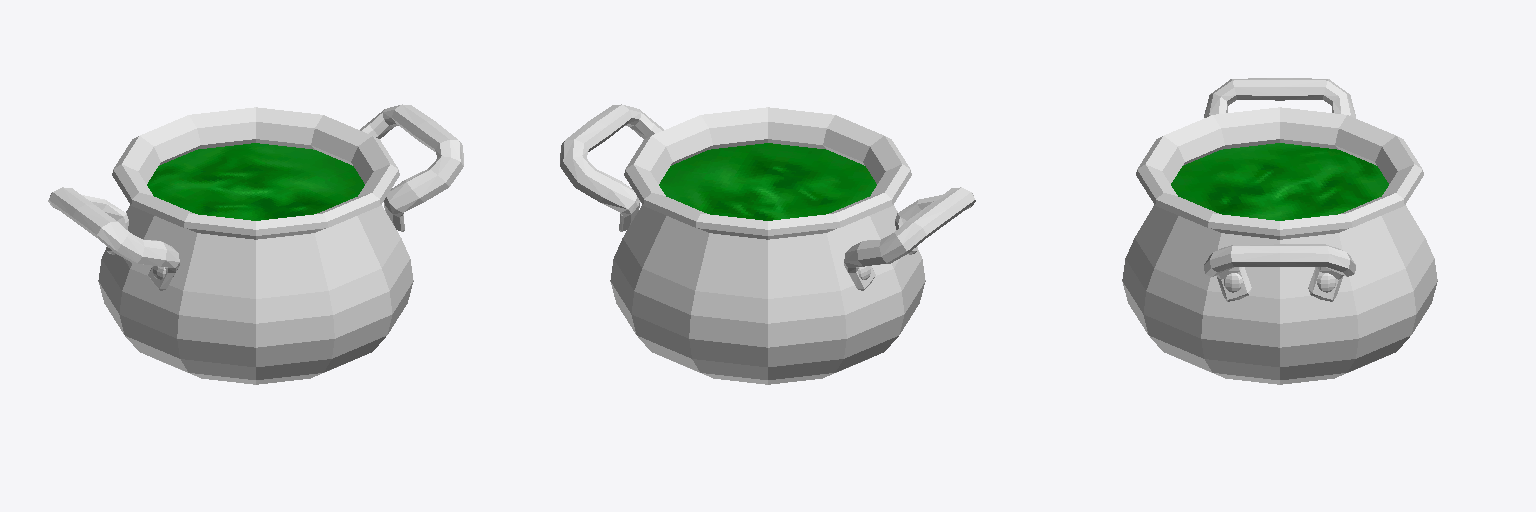
3 renders of one model, left to right at view 1: azimuth 30°, elevation 25°; view 2: azimuth 150°, elevation 25°; view 3: azimuth 270°, elevation 25°, orthographic.
Parts seen in each view (by area): view 1: polygon2, topoDaSopa, polygon3; view 2: polygon2, topoDaSopa, polygon3; view 3: polygon2, topoDaSopa, polygon3, polygon4.
Boxes of the visible parts, <box> form: polygon2: <box>98,107,413,384</box>; topoDaSopa: <box>147,143,364,220</box>; polygon3: <box>48,104,463,290</box>; polygon2: <box>610,107,925,384</box>; topoDaSopa: <box>659,143,876,220</box>; polygon3: <box>560,104,975,290</box>; polygon2: <box>1122,107,1437,384</box>; topoDaSopa: <box>1171,143,1388,220</box>; polygon3: <box>1204,78,1355,301</box>; polygon4: <box>1224,273,1335,292</box>.
Bounding box in the file's own units: 1.71 × 0.8305 × 1.27.
4 materials, 1 textured.